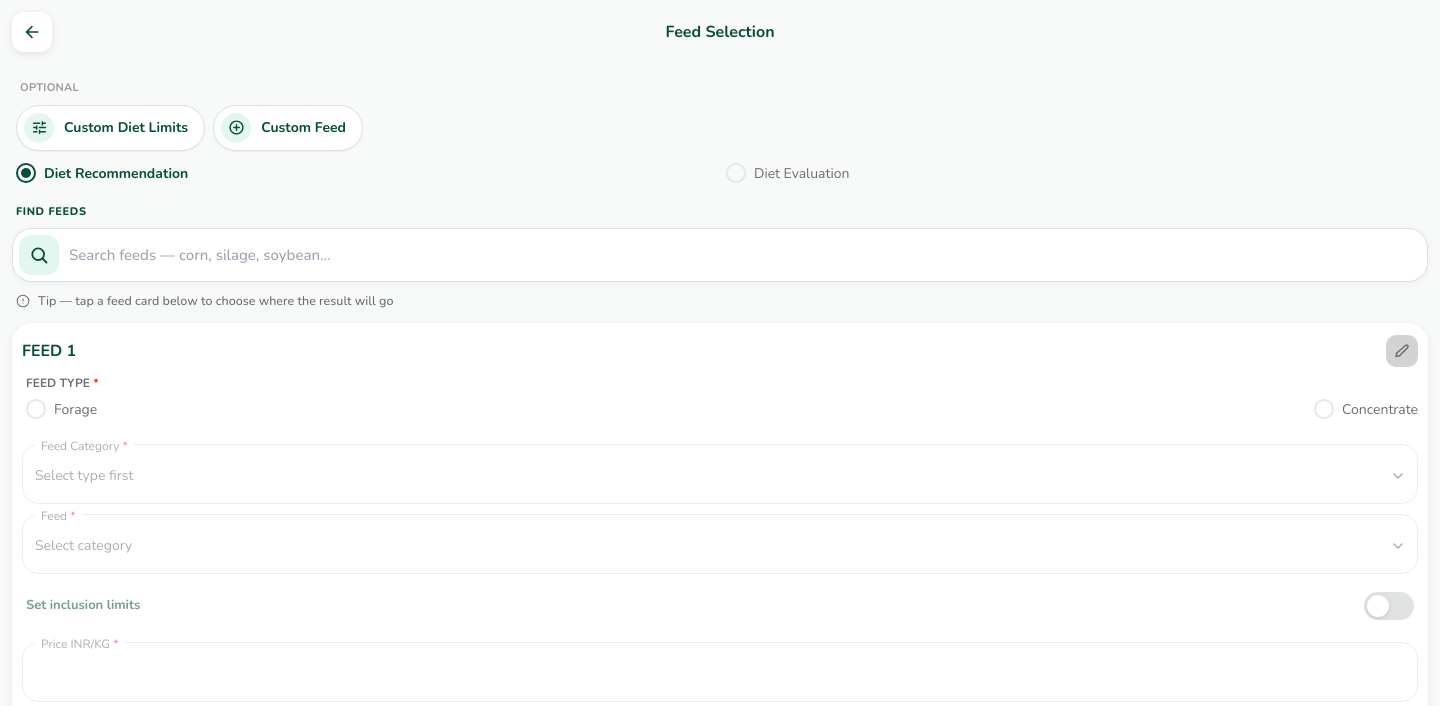
Scenario: feed-selection — Custom Diet Limits gating › is enabled in recommendation mode, disabled in evaluation mode
Expected: the button "Custom Diet Limits" is enabled, left=16, top=104, right=205, bottom=150
Click the button "Diet Evaluation" at (802, 173), box left=726, top=162, right=1424, bottom=184
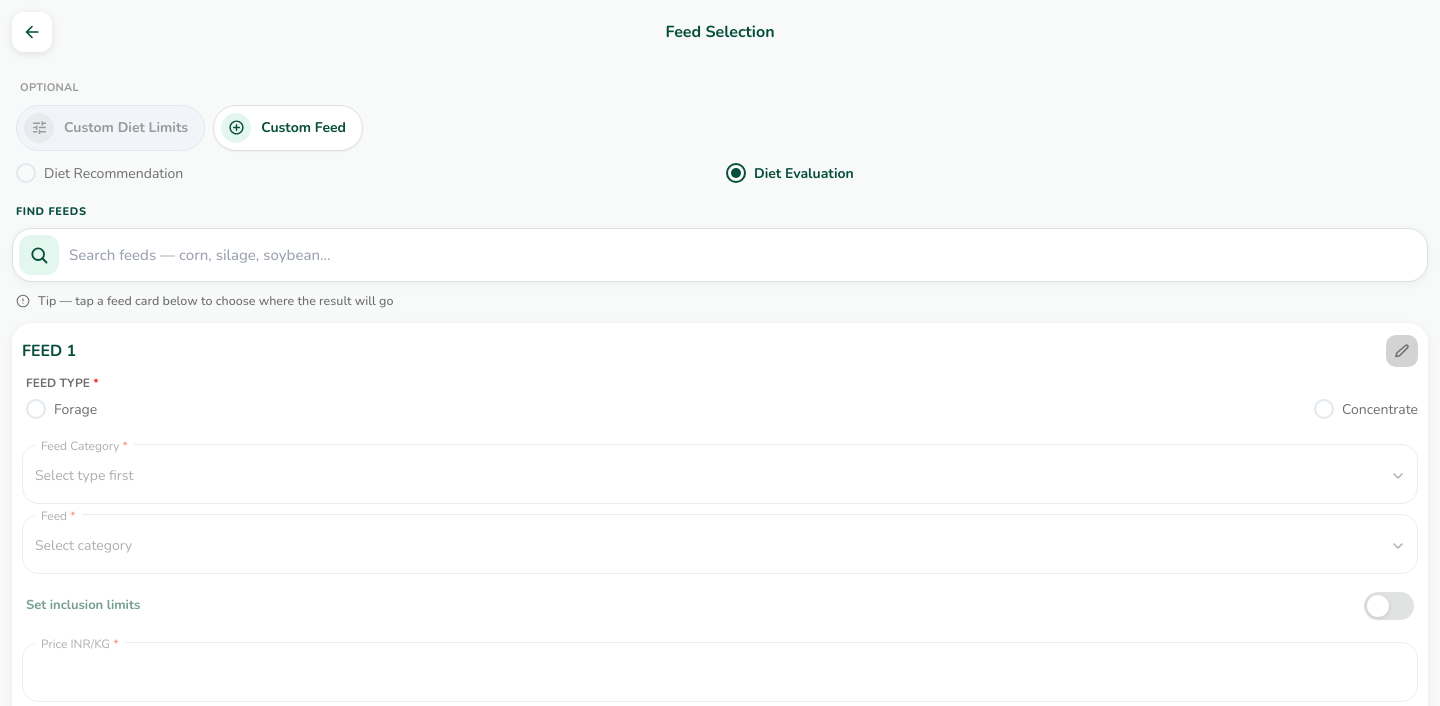
Now the button "Custom Diet Limits" is disabled, box left=16, top=104, right=205, bottom=150
